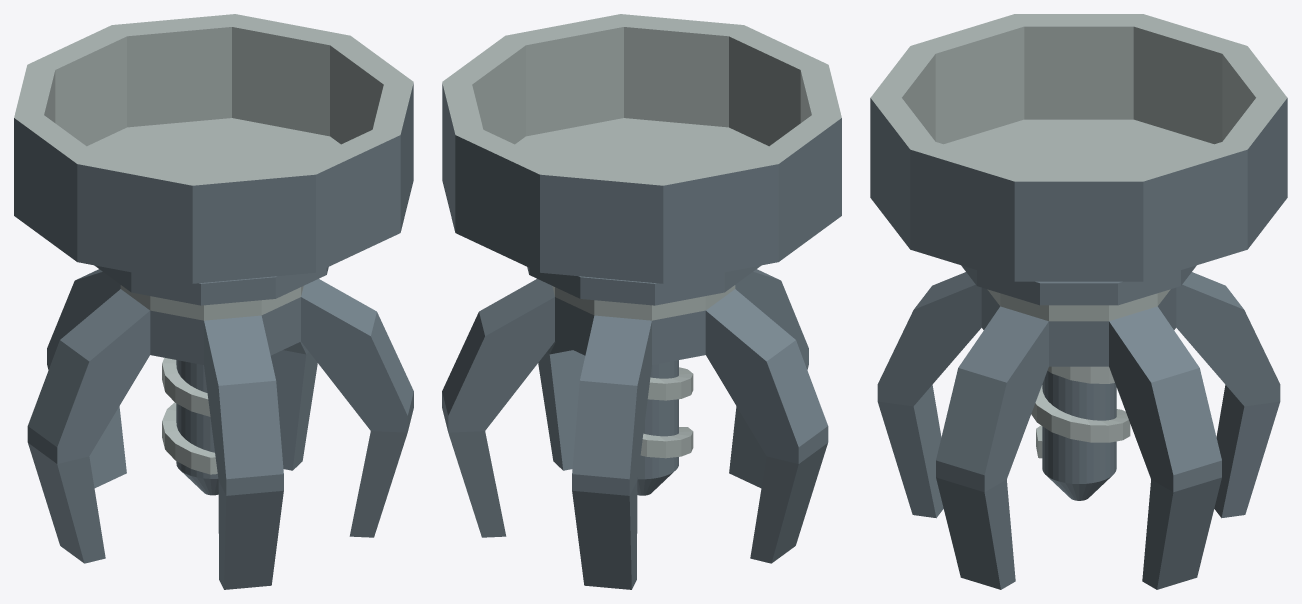
The model's file is Drill 2.fbx.
3 renders of one model, left to right at view 1: azimuth 30°, elevation 25°; view 2: azimuth 150°, elevation 25°; view 3: azimuth 270°, elevation 25°, orthographic. The views are drawn at different scales.
Parts seen in each view (by area): view 1: Miner; view 2: Miner; view 3: Miner.
Part boxes in pixels (x1=…): Miner: x1=14, y1=14, x2=413, y2=589; Miner: x1=442, y1=14, x2=841, y2=589; Miner: x1=870, y1=14, x2=1287, y2=589.
Size of the model in its own units: 518 by 612 by 539.
